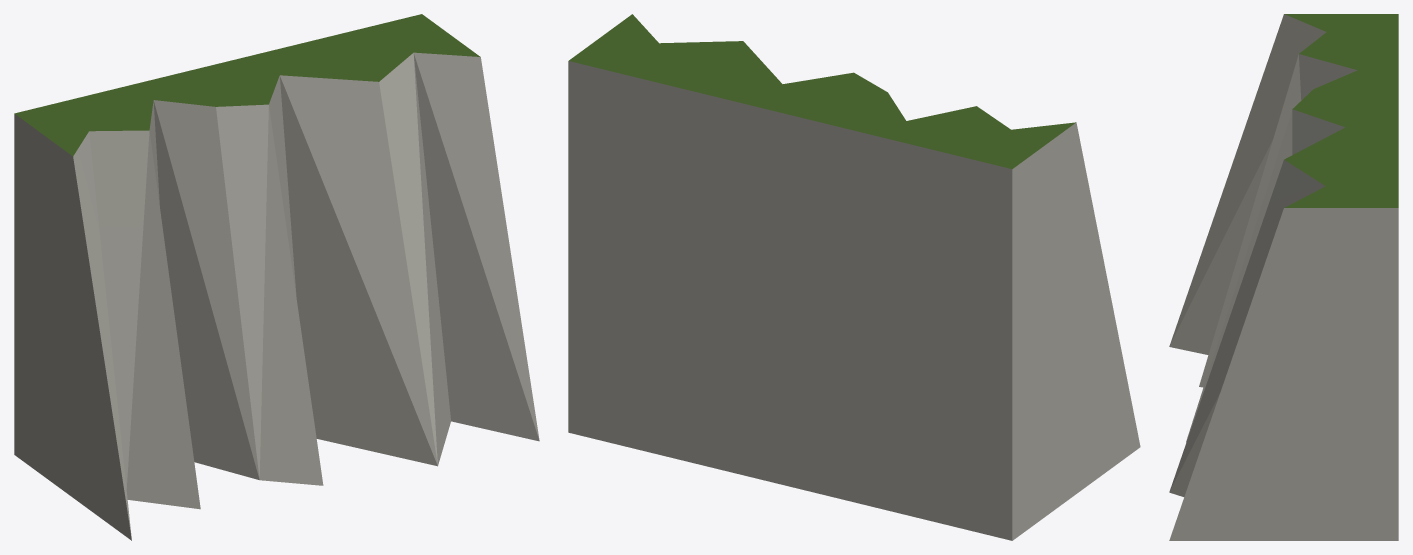
Rendered from Terrain_Modular_Tiles_Grass_Rock_Cliff_Side_Outer_02.fbx.
The picture shows the model from 3 angles, left to right: view 1: azimuth 30°, elevation 25°; view 2: azimuth 150°, elevation 25°; view 3: azimuth 270°, elevation 25°; orthographic projection. The views are drawn at different scales.
Visible parts, largest first — view 1: Terrain_Modular_Tiles_Grass_Rock_Cliff_Side_Outer_02; view 2: Terrain_Modular_Tiles_Grass_Rock_Cliff_Side_Outer_02; view 3: Terrain_Modular_Tiles_Grass_Rock_Cliff_Side_Outer_02.
Boxes of the visible parts, bbox=[...] form: Terrain_Modular_Tiles_Grass_Rock_Cliff_Side_Outer_02: bbox=[14, 14, 539, 540]; Terrain_Modular_Tiles_Grass_Rock_Cliff_Side_Outer_02: bbox=[568, 14, 1140, 540]; Terrain_Modular_Tiles_Grass_Rock_Cliff_Side_Outer_02: bbox=[1169, 14, 1398, 540].
Size of the model in its own units: 118 by 94.49 by 59.06.
